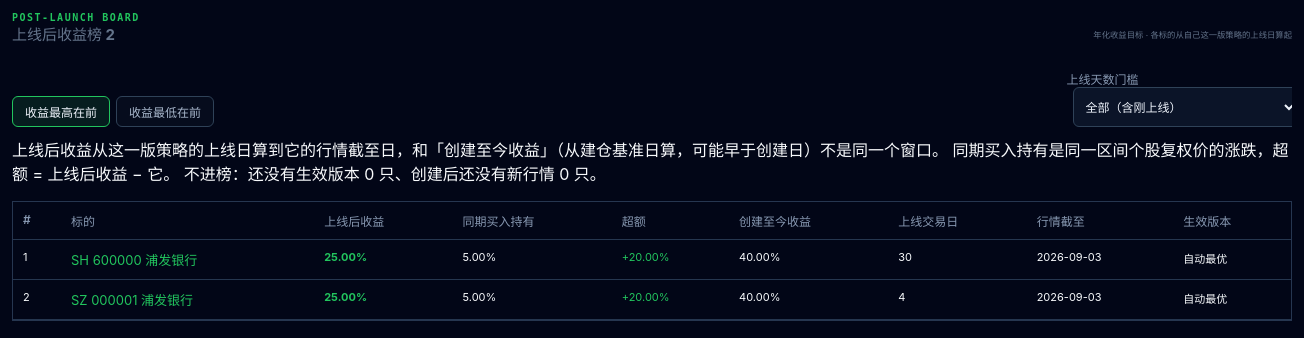
Test: StrategyPoolPostLaunchBoard › can require a track record and says how many symbols the gate dropped
Select "上线满 20 个交易日" in the dropdown with test id "pool-board-min-days" at (1182, 107), box [1073, 87, 1292, 127]
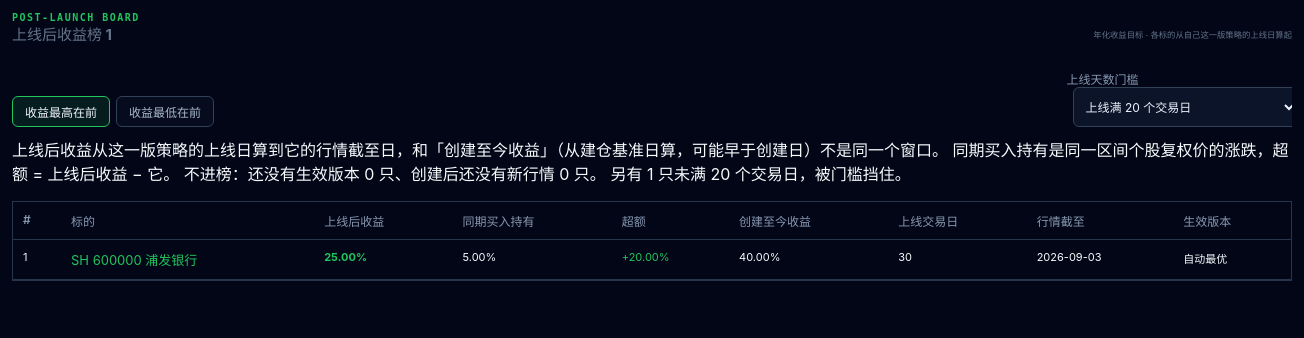
Now the text with test id "pool-board-caliber" shows "另有 1 只未满 20 个交易日", box [610, 164, 911, 184]
